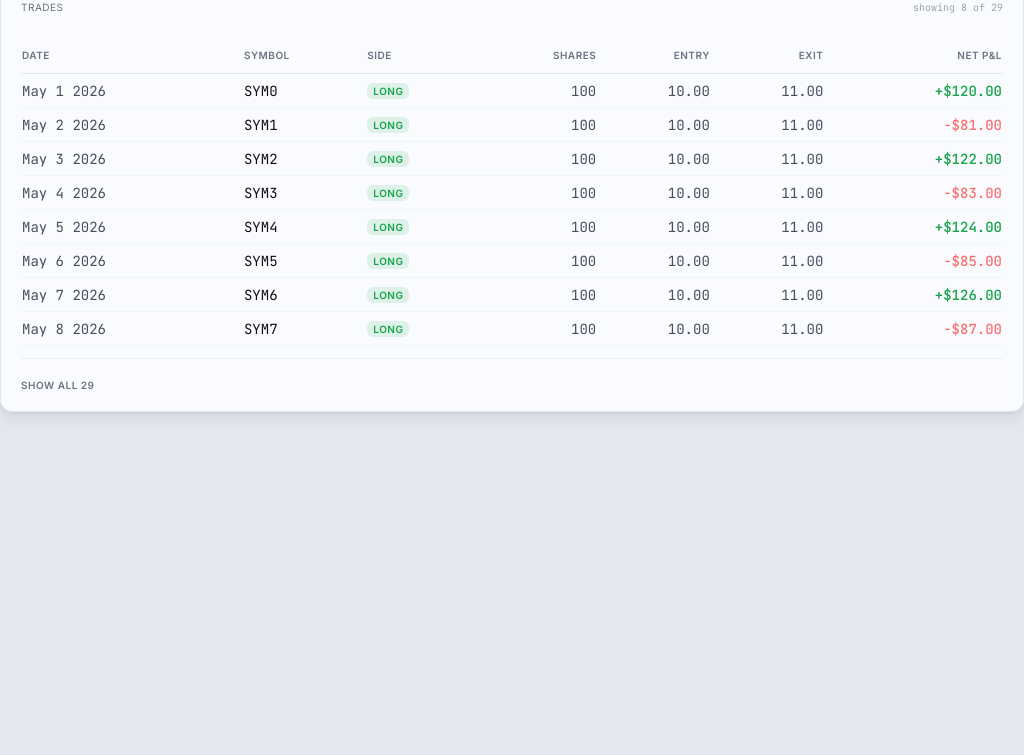
Test: G5 the list caps at eight, and the affordance tells the truth › clicking it reveals every row, and the affordance flips back
What coordinates should you click on to do the following:
click the button "Show all 29"
I would click on:
 (58, 386)
Its box is [21,378,94,393].
(page scrolled)
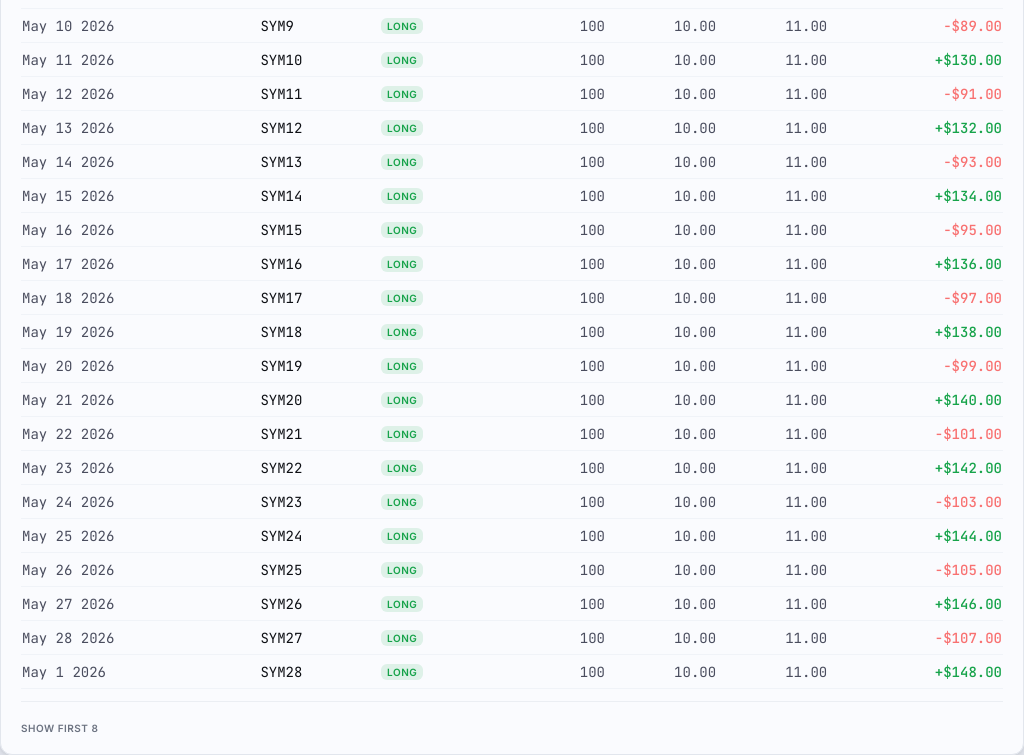
Check: the button "Show first 8" is shown, box [21,721,98,736]
